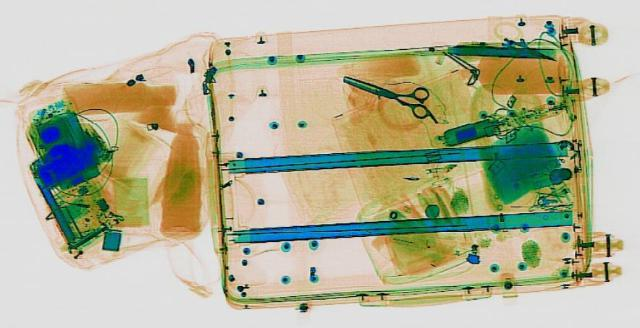Scissors: (322, 64, 456, 119)
